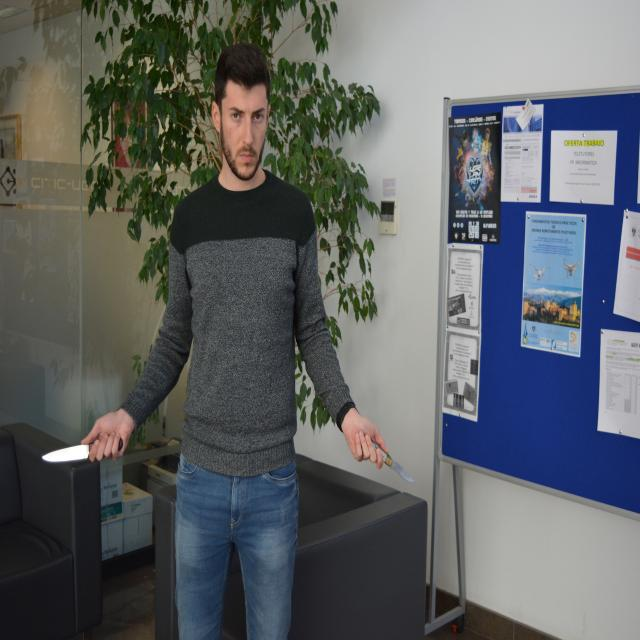knife: (39, 443, 93, 467)
